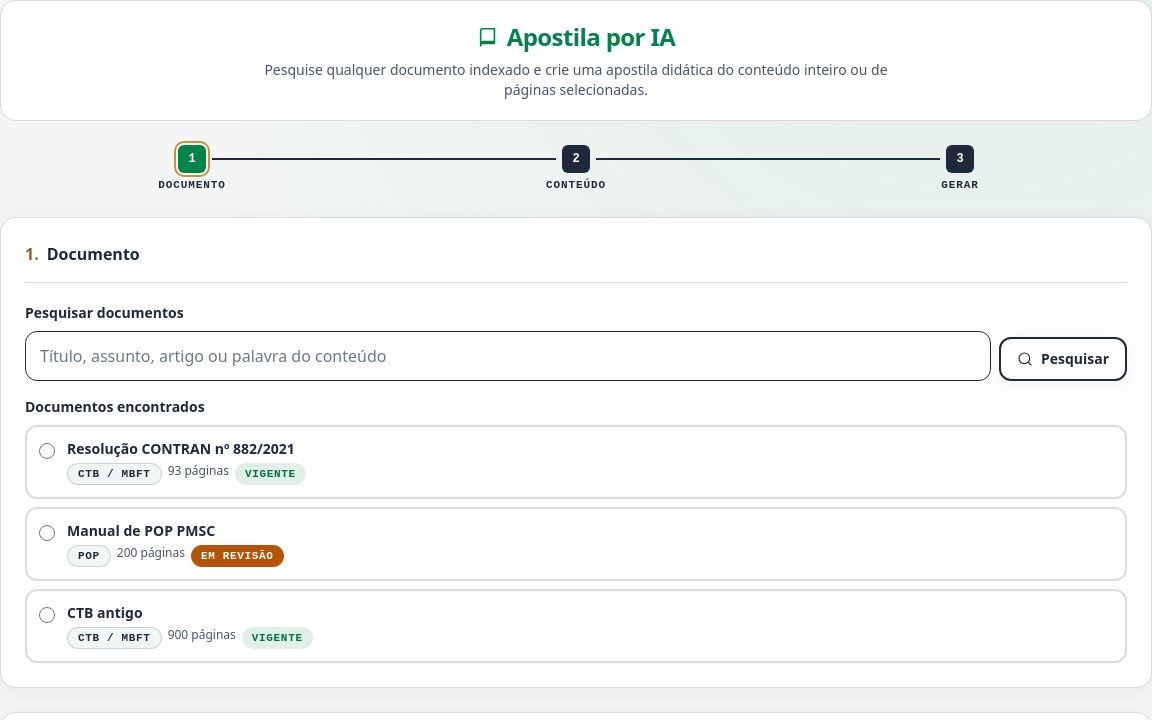
it: GerarApostila › exige escolha manual de até dez páginas em documentos maiores
Expected: the text "Manual de POP PMSC" is shown, x1=67 y1=521 x2=215 y2=540
What coordinates should you click on to do the following:
click the radio button labelled "Manual de POP PMSC"
I would click on:
 (47, 533)
Its box is x1=39 y1=525 x2=55 y2=541.
(page scrolled)
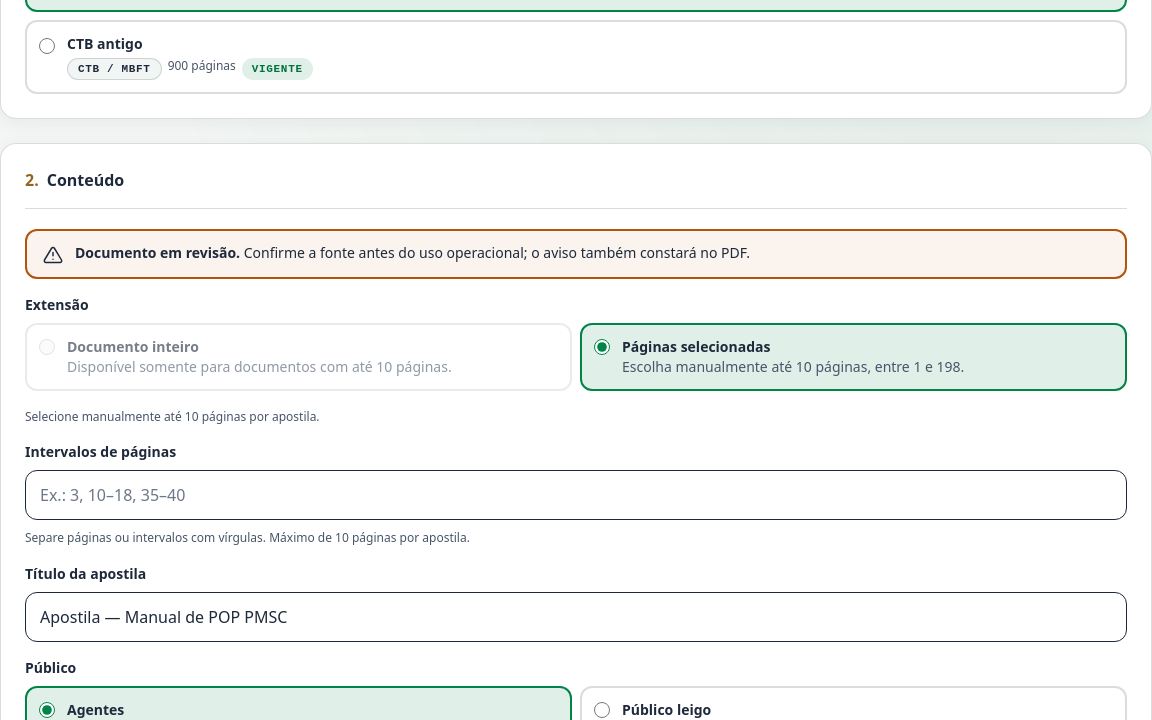
Result: the radio button labelled "Documento inteiro" is disabled at x1=39 y1=339 x2=55 y2=355
Result: the radio button labelled "Páginas selecionadas" is checked at x1=594 y1=339 x2=610 y2=355
Result: the text "Selecione manualmente até 10 páginas por apostila." is shown at x1=25 y1=408 x2=320 y2=425
